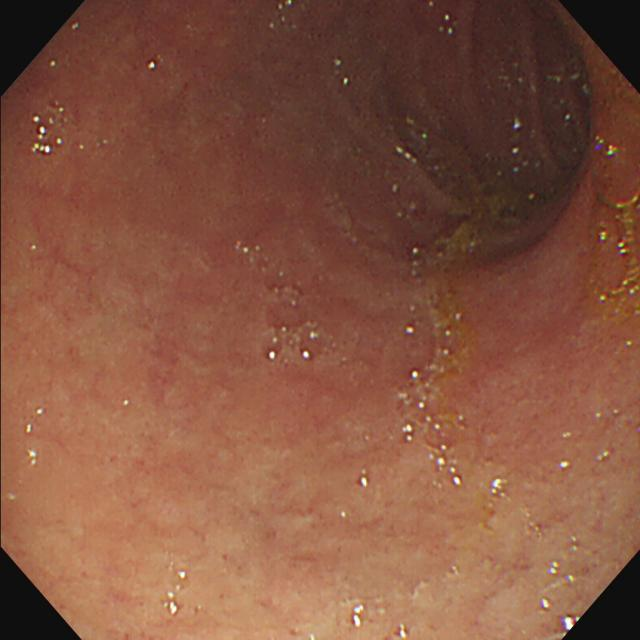J: (423, 195, 523, 425), (589, 192, 640, 323)
U: (430, 444, 463, 487), (32, 114, 63, 156), (165, 571, 189, 617), (353, 604, 365, 629), (564, 615, 581, 632), (542, 598, 552, 612), (268, 351, 277, 363), (302, 350, 310, 359)
